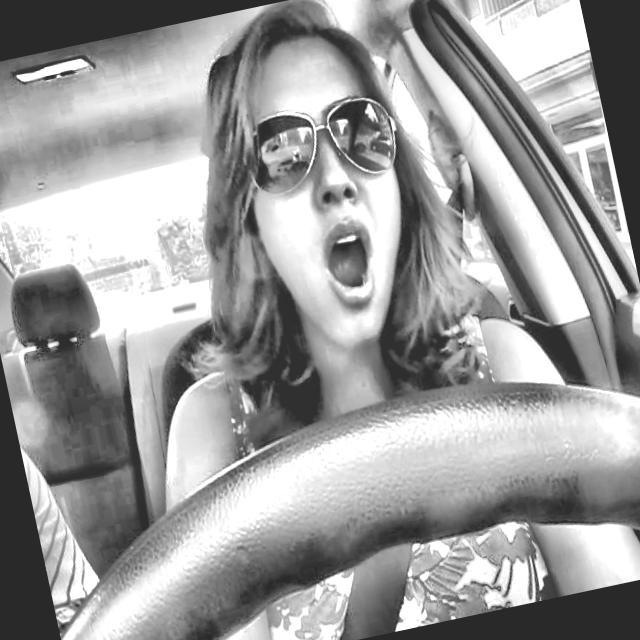open_mouth: (298, 217, 391, 319)
